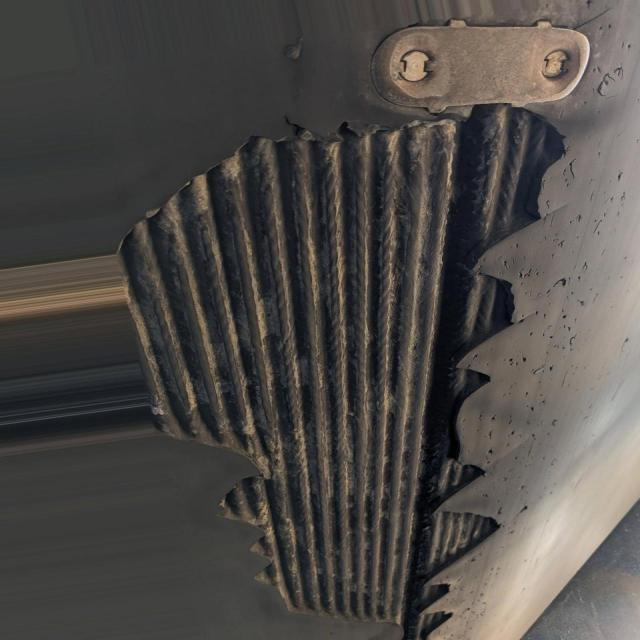Tear: (111, 99, 584, 640)
